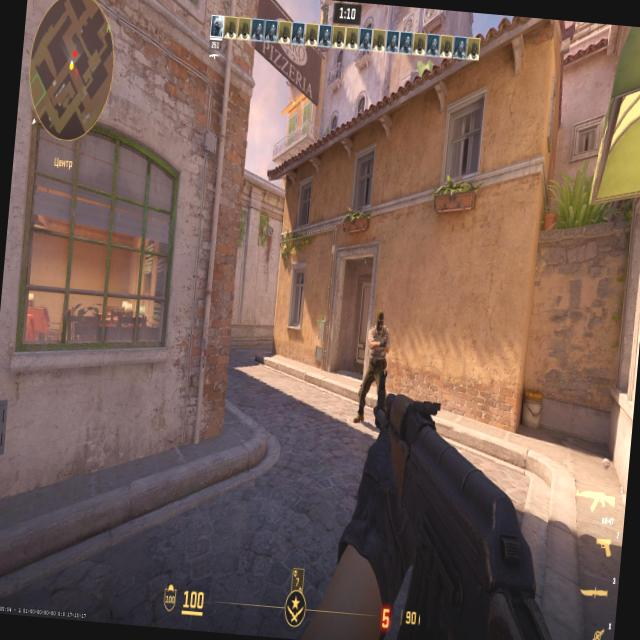T: (365, 314, 386, 388)
T_heat: (372, 324, 383, 342)
